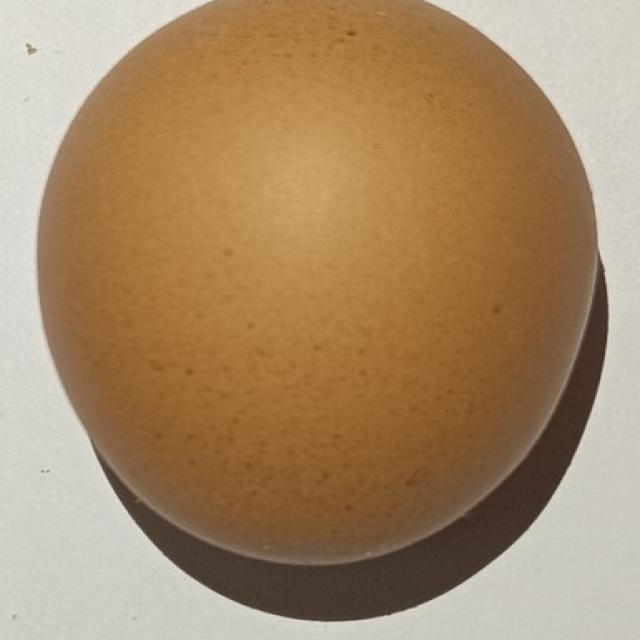unfresh: (33, 0, 601, 562)
